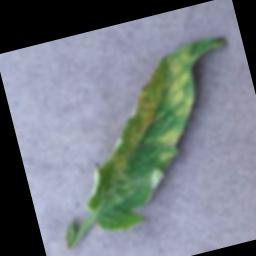Leaf_Mold: (86, 43, 218, 177)
